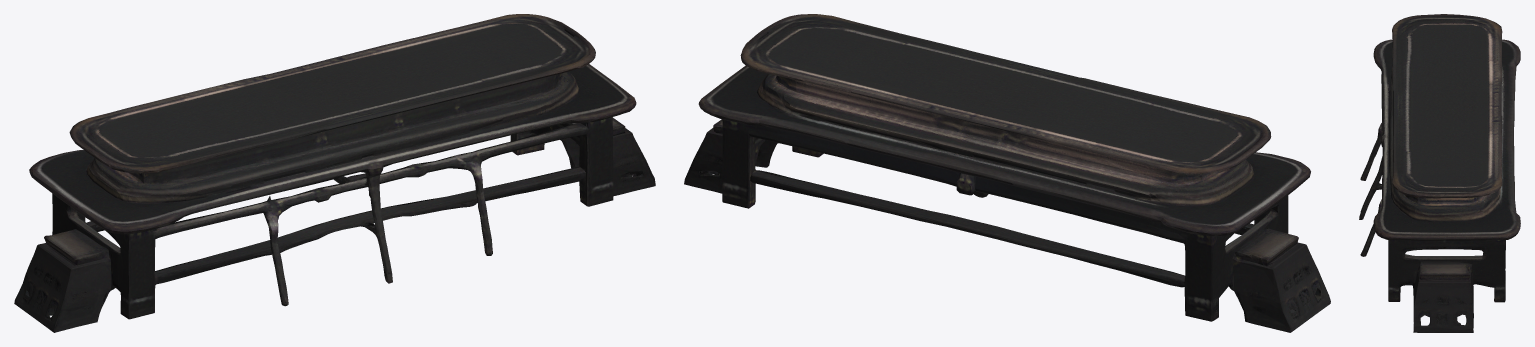
The model's file is trellis_result.glb.
The picture shows the model from 3 angles, left to right: view 1: azimuth 30°, elevation 25°; view 2: azimuth 150°, elevation 25°; view 3: azimuth 270°, elevation 25°; orthographic projection. The views are drawn at different scales.
Visible parts, largest first — view 1: world; view 2: world; view 3: world.
Part boxes in pixels (x1=…): world: x1=14, y1=14, x2=655, y2=332; world: x1=684, y1=14, x2=1330, y2=332; world: x1=1359, y1=14, x2=1520, y2=332.
Size of the model in its own units: 1 by 0.2442 by 0.3051.
Materials: 1 (1 with a texture image).
